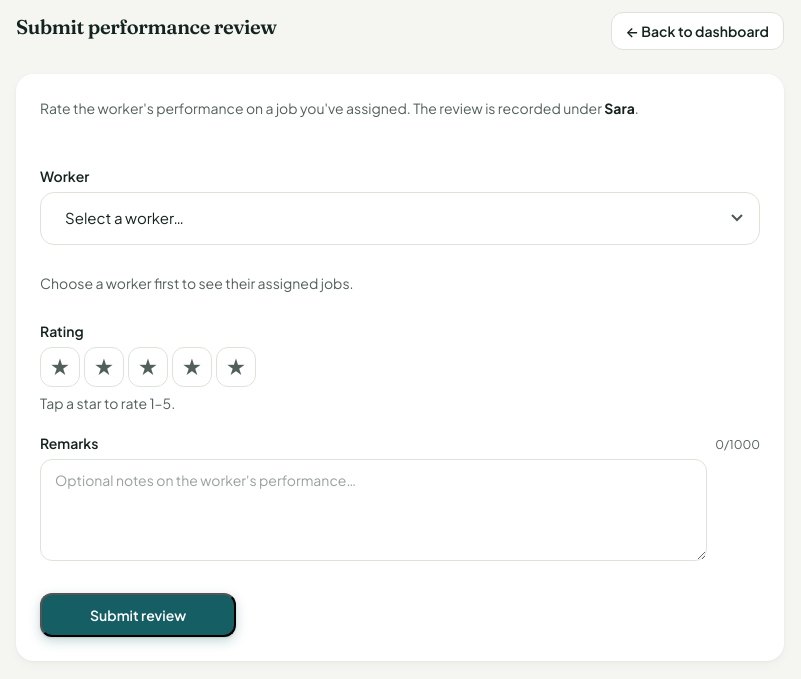
Test case: SubmitReview › explains when the selected worker has no assigned jobs to review
Select "Ana (ana@example.com)" in the dropdown labelled "Worker" at x=400, y=218, box [40,192,760,244]
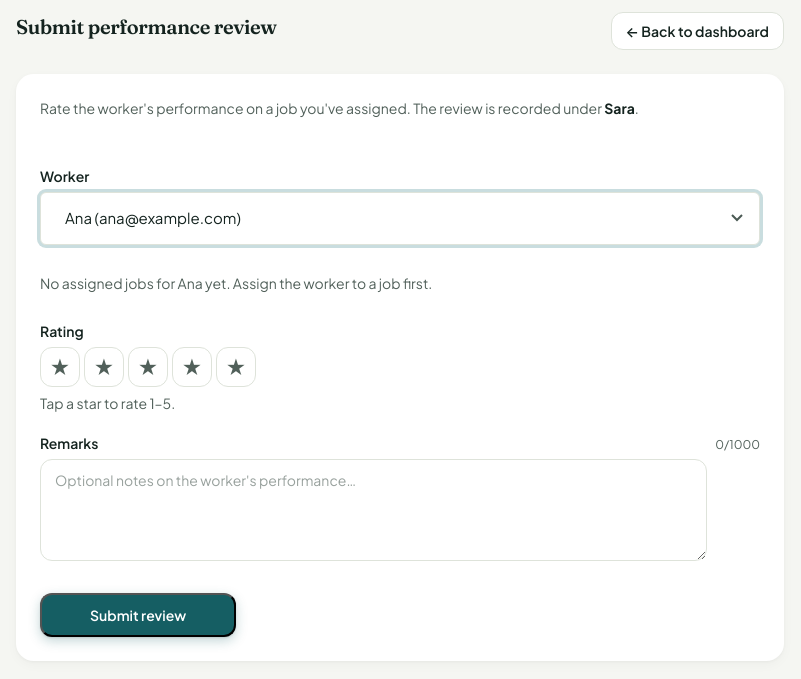
Check: the text "No assigned jobs for Ana" is shown, box [40,274,432,292]
